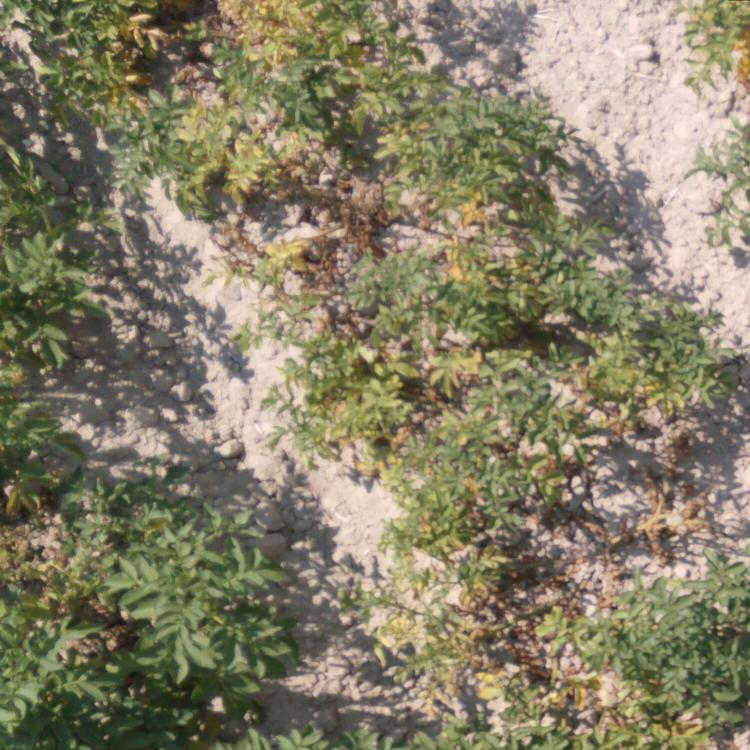healthy: (1, 508, 262, 746), (1, 160, 82, 496), (280, 703, 428, 750)
stressed: (239, 232, 703, 438), (437, 574, 742, 750), (134, 104, 553, 223), (340, 440, 714, 563), (28, 1, 421, 103), (691, 4, 750, 245), (357, 571, 429, 662)
